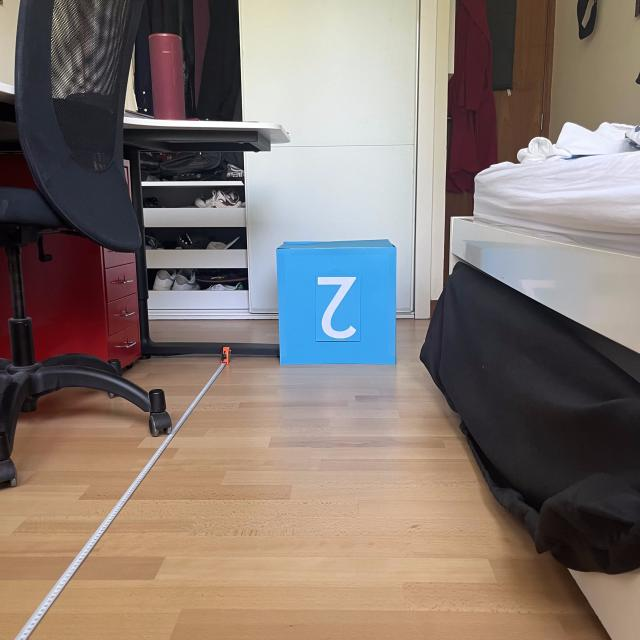box: (272, 234, 400, 368)
